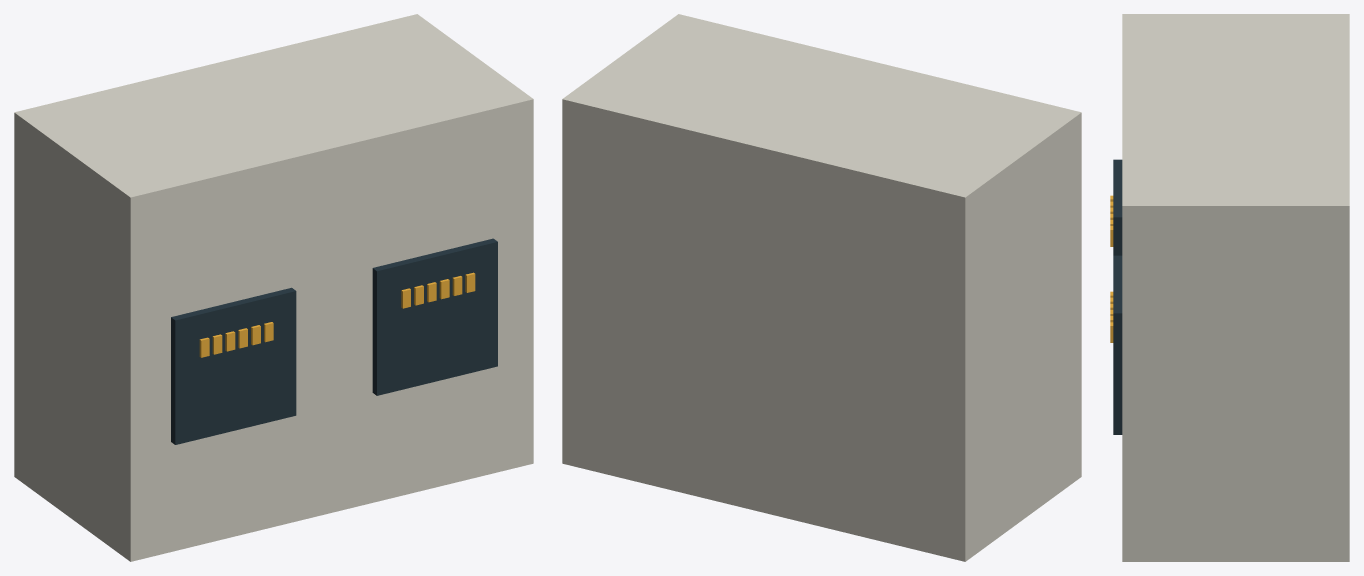
Rendered from scendance-plan-lan-socket.glb.
3 views of the same model, side by side, from view 1: azimuth 30°, elevation 25°; view 2: azimuth 150°, elevation 25°; view 3: azimuth 270°, elevation 25° (orthographic). The views are drawn at different scales.
Bounding box in the file's own units: 0.44 × 0.38 × 0.2315.
